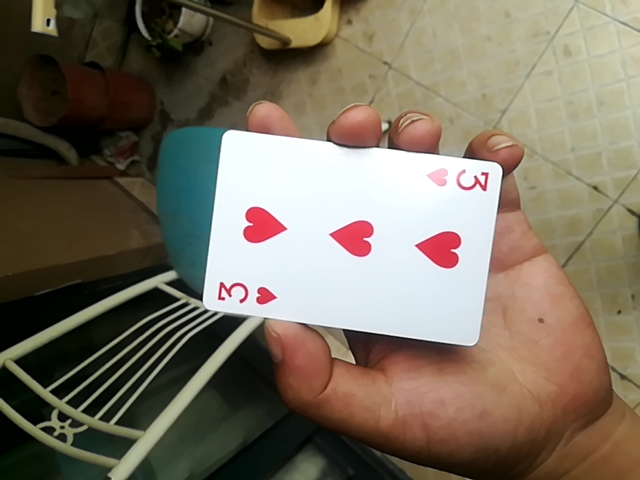hx 3: (187, 132, 497, 348)
